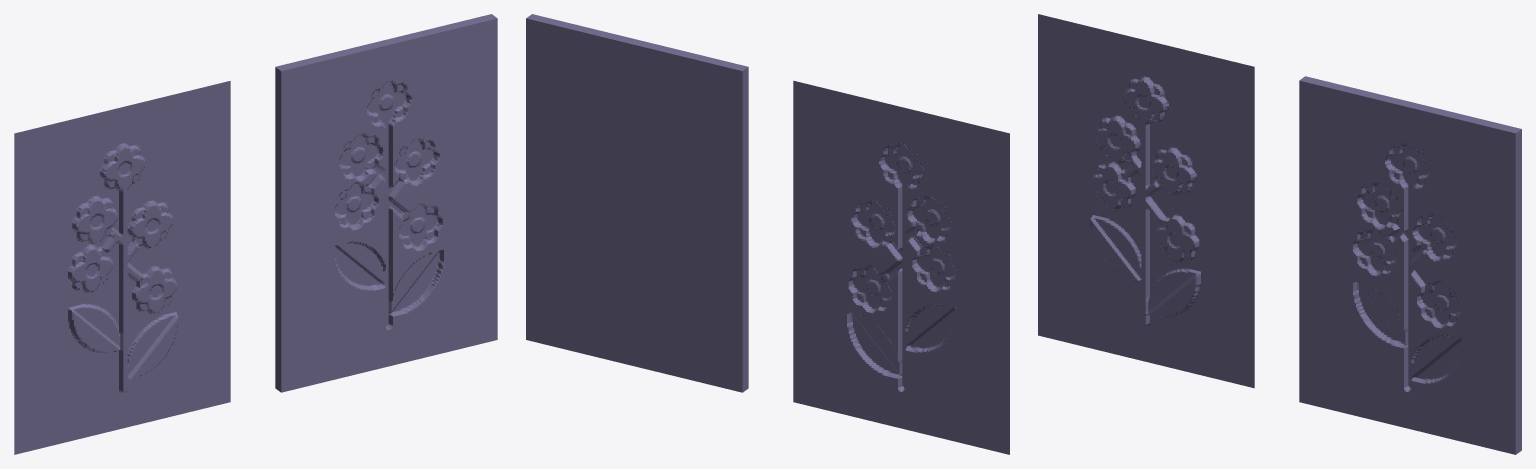
The model's file is daffodil_both_notexture.glb.
The picture shows the model from 3 angles, left to right: view 1: azimuth 30°, elevation 25°; view 2: azimuth 150°, elevation 25°; view 3: azimuth 330°, elevation 25°; orthographic projection.
Visible parts, largest first — view 1: Plane.031, Plane.013; view 2: Plane.031, Plane.013; view 3: Plane.031, Plane.013.
Boxes of the visible parts, x1,y1,x2,y2 form: Plane.031: (275,14,497,392); Plane.013: (14,81,230,454); Plane.031: (526,14,748,392); Plane.013: (793,80,1009,454); Plane.031: (1299,76,1521,454); Plane.013: (1038,14,1254,388).
Bounding box in the file's own units: 9.1 × 5.82 × 0.1994.
